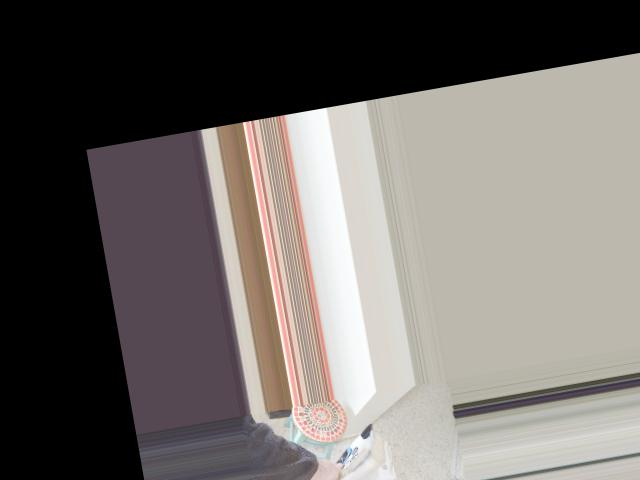cheese: (287, 408, 408, 480)
